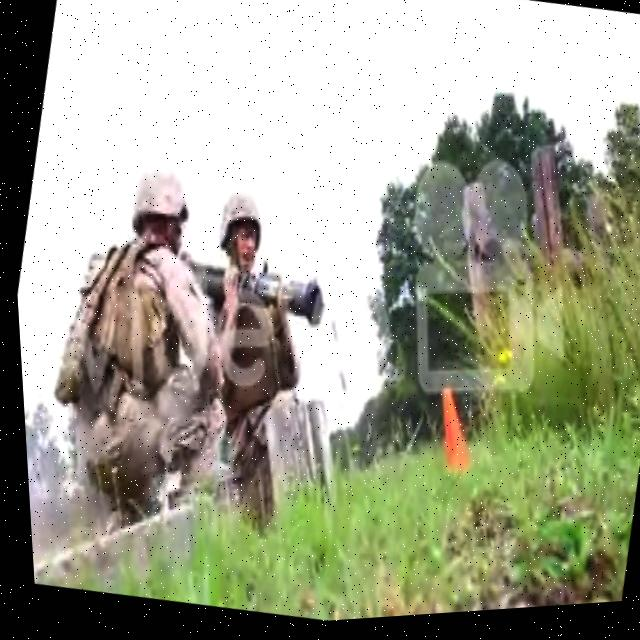rocket: (163, 225, 333, 358)
